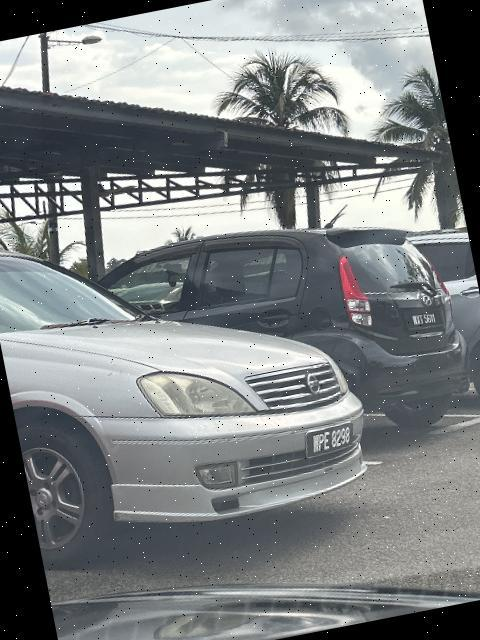License_Plate: (301, 416, 361, 464), (403, 301, 446, 338)
WPE8298: (301, 416, 361, 464)
WXT5671: (403, 301, 446, 338)
car: (1, 175, 386, 576), (86, 185, 480, 493)
